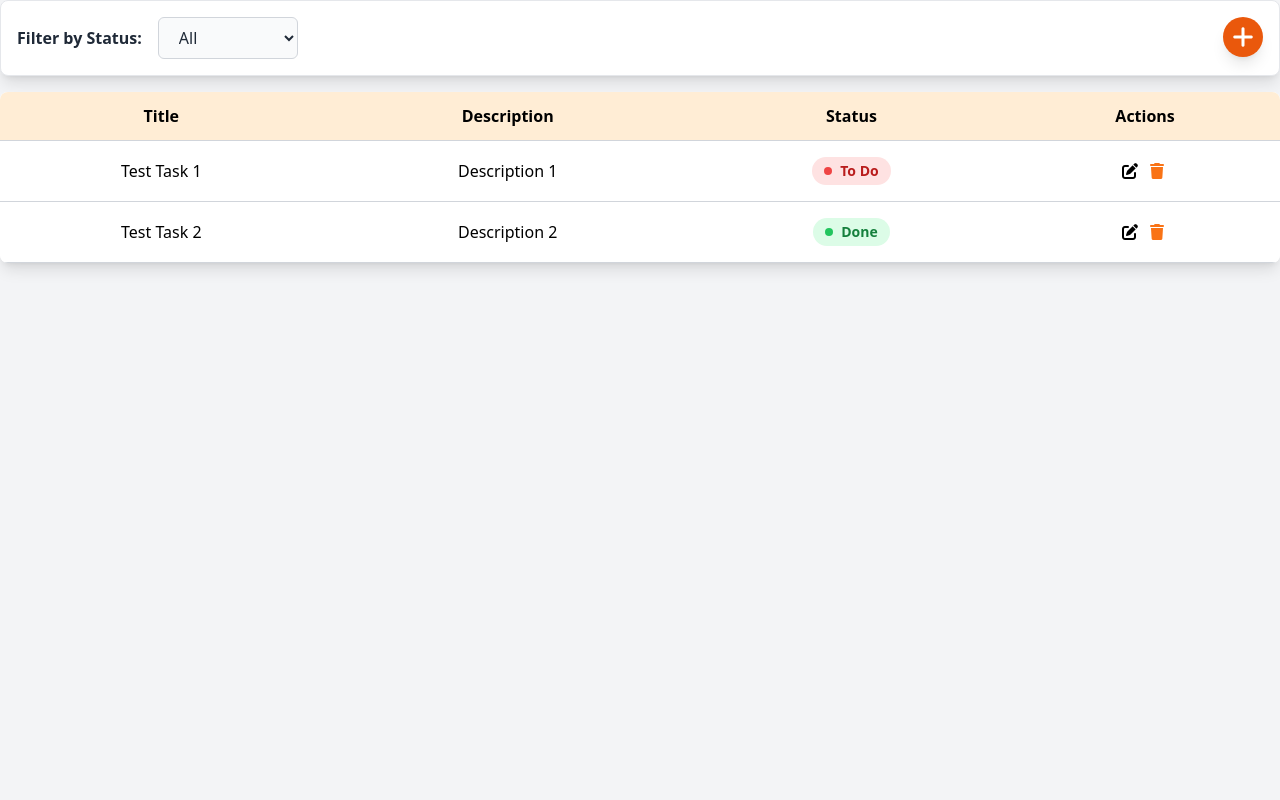
Table.vue › opens add task modal when "Add Task" button is clicked
Step 1. Click the button titled "Add Task" → (1243, 37), box [1223,17,1263,57]
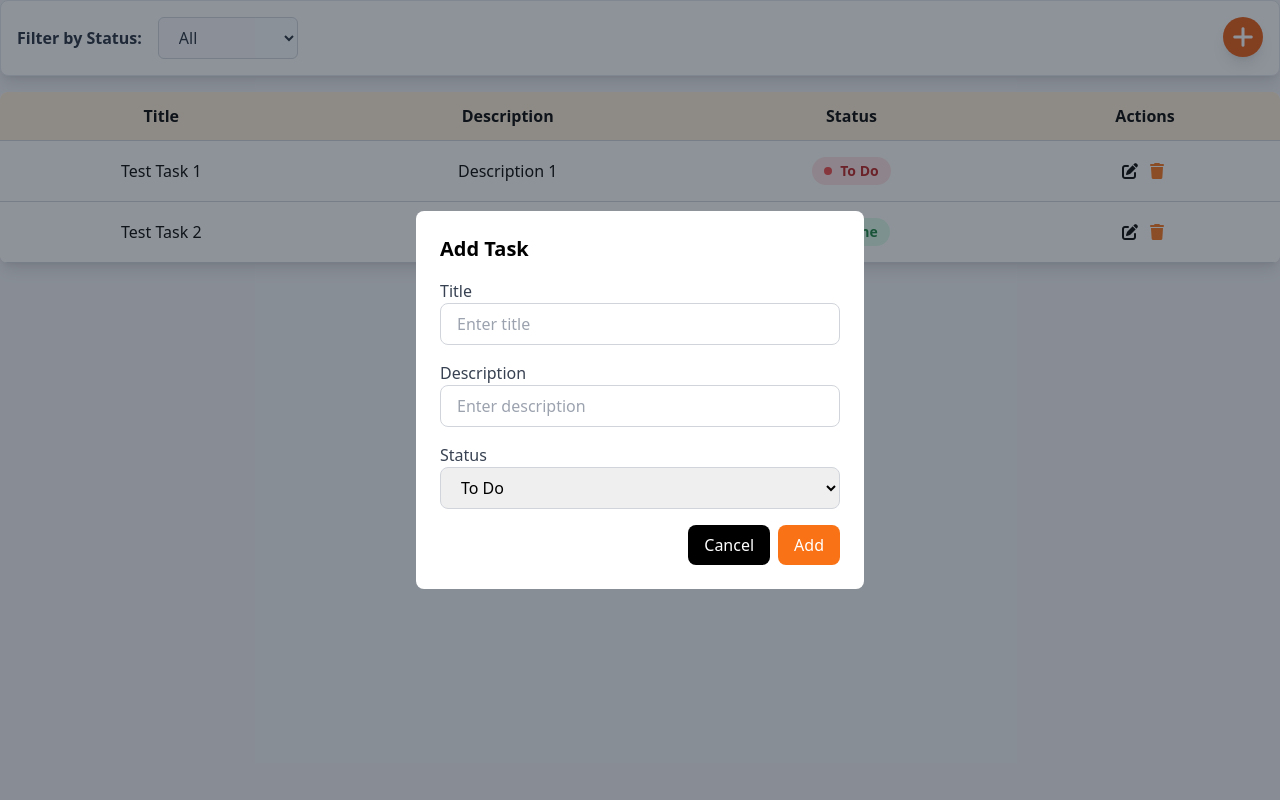
Expected: the element showing "Add Task Title Description Status Cancel Add" is shown
